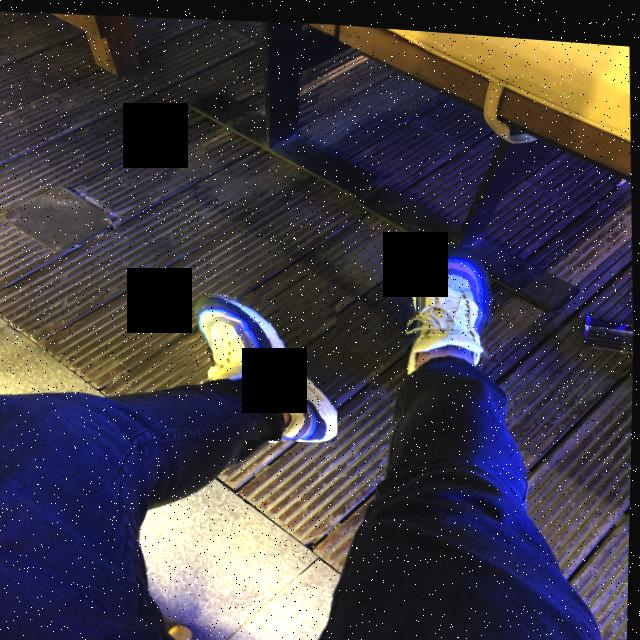shoe: (179, 283, 342, 443), (404, 234, 495, 374)
